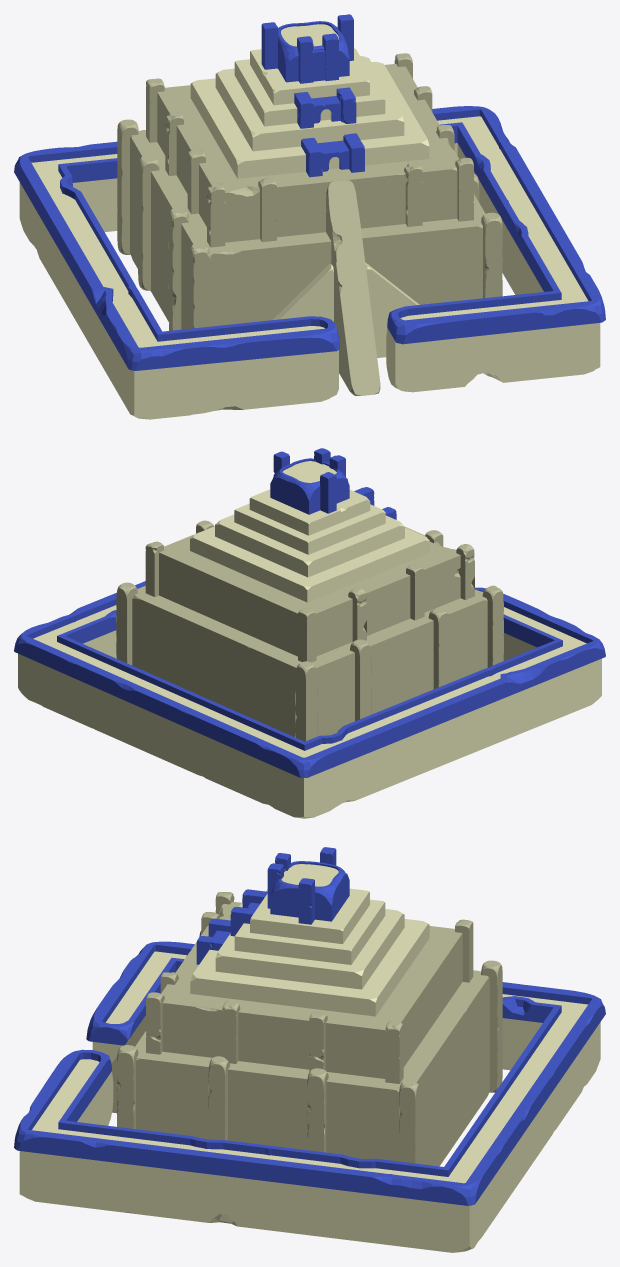
Rendered from Zigurat.fbx.
The picture shows the model from 3 angles, top to bottom: view 1: azimuth 30°, elevation 25°; view 2: azimuth 150°, elevation 25°; view 3: azimuth 270°, elevation 25°; orthographic projection. The views are drawn at different scales.
Parts seen in each view (by area): view 1: Cube.001_dmg; view 2: Cube.001_dmg; view 3: Cube.001_dmg.
Boxes of the visible parts, x1,y1,x2,y2 form: Cube.001_dmg: (14, 14, 605, 419); Cube.001_dmg: (14, 448, 605, 818); Cube.001_dmg: (14, 847, 605, 1252).
Size of the model in its own units: 528 by 263 by 528.
